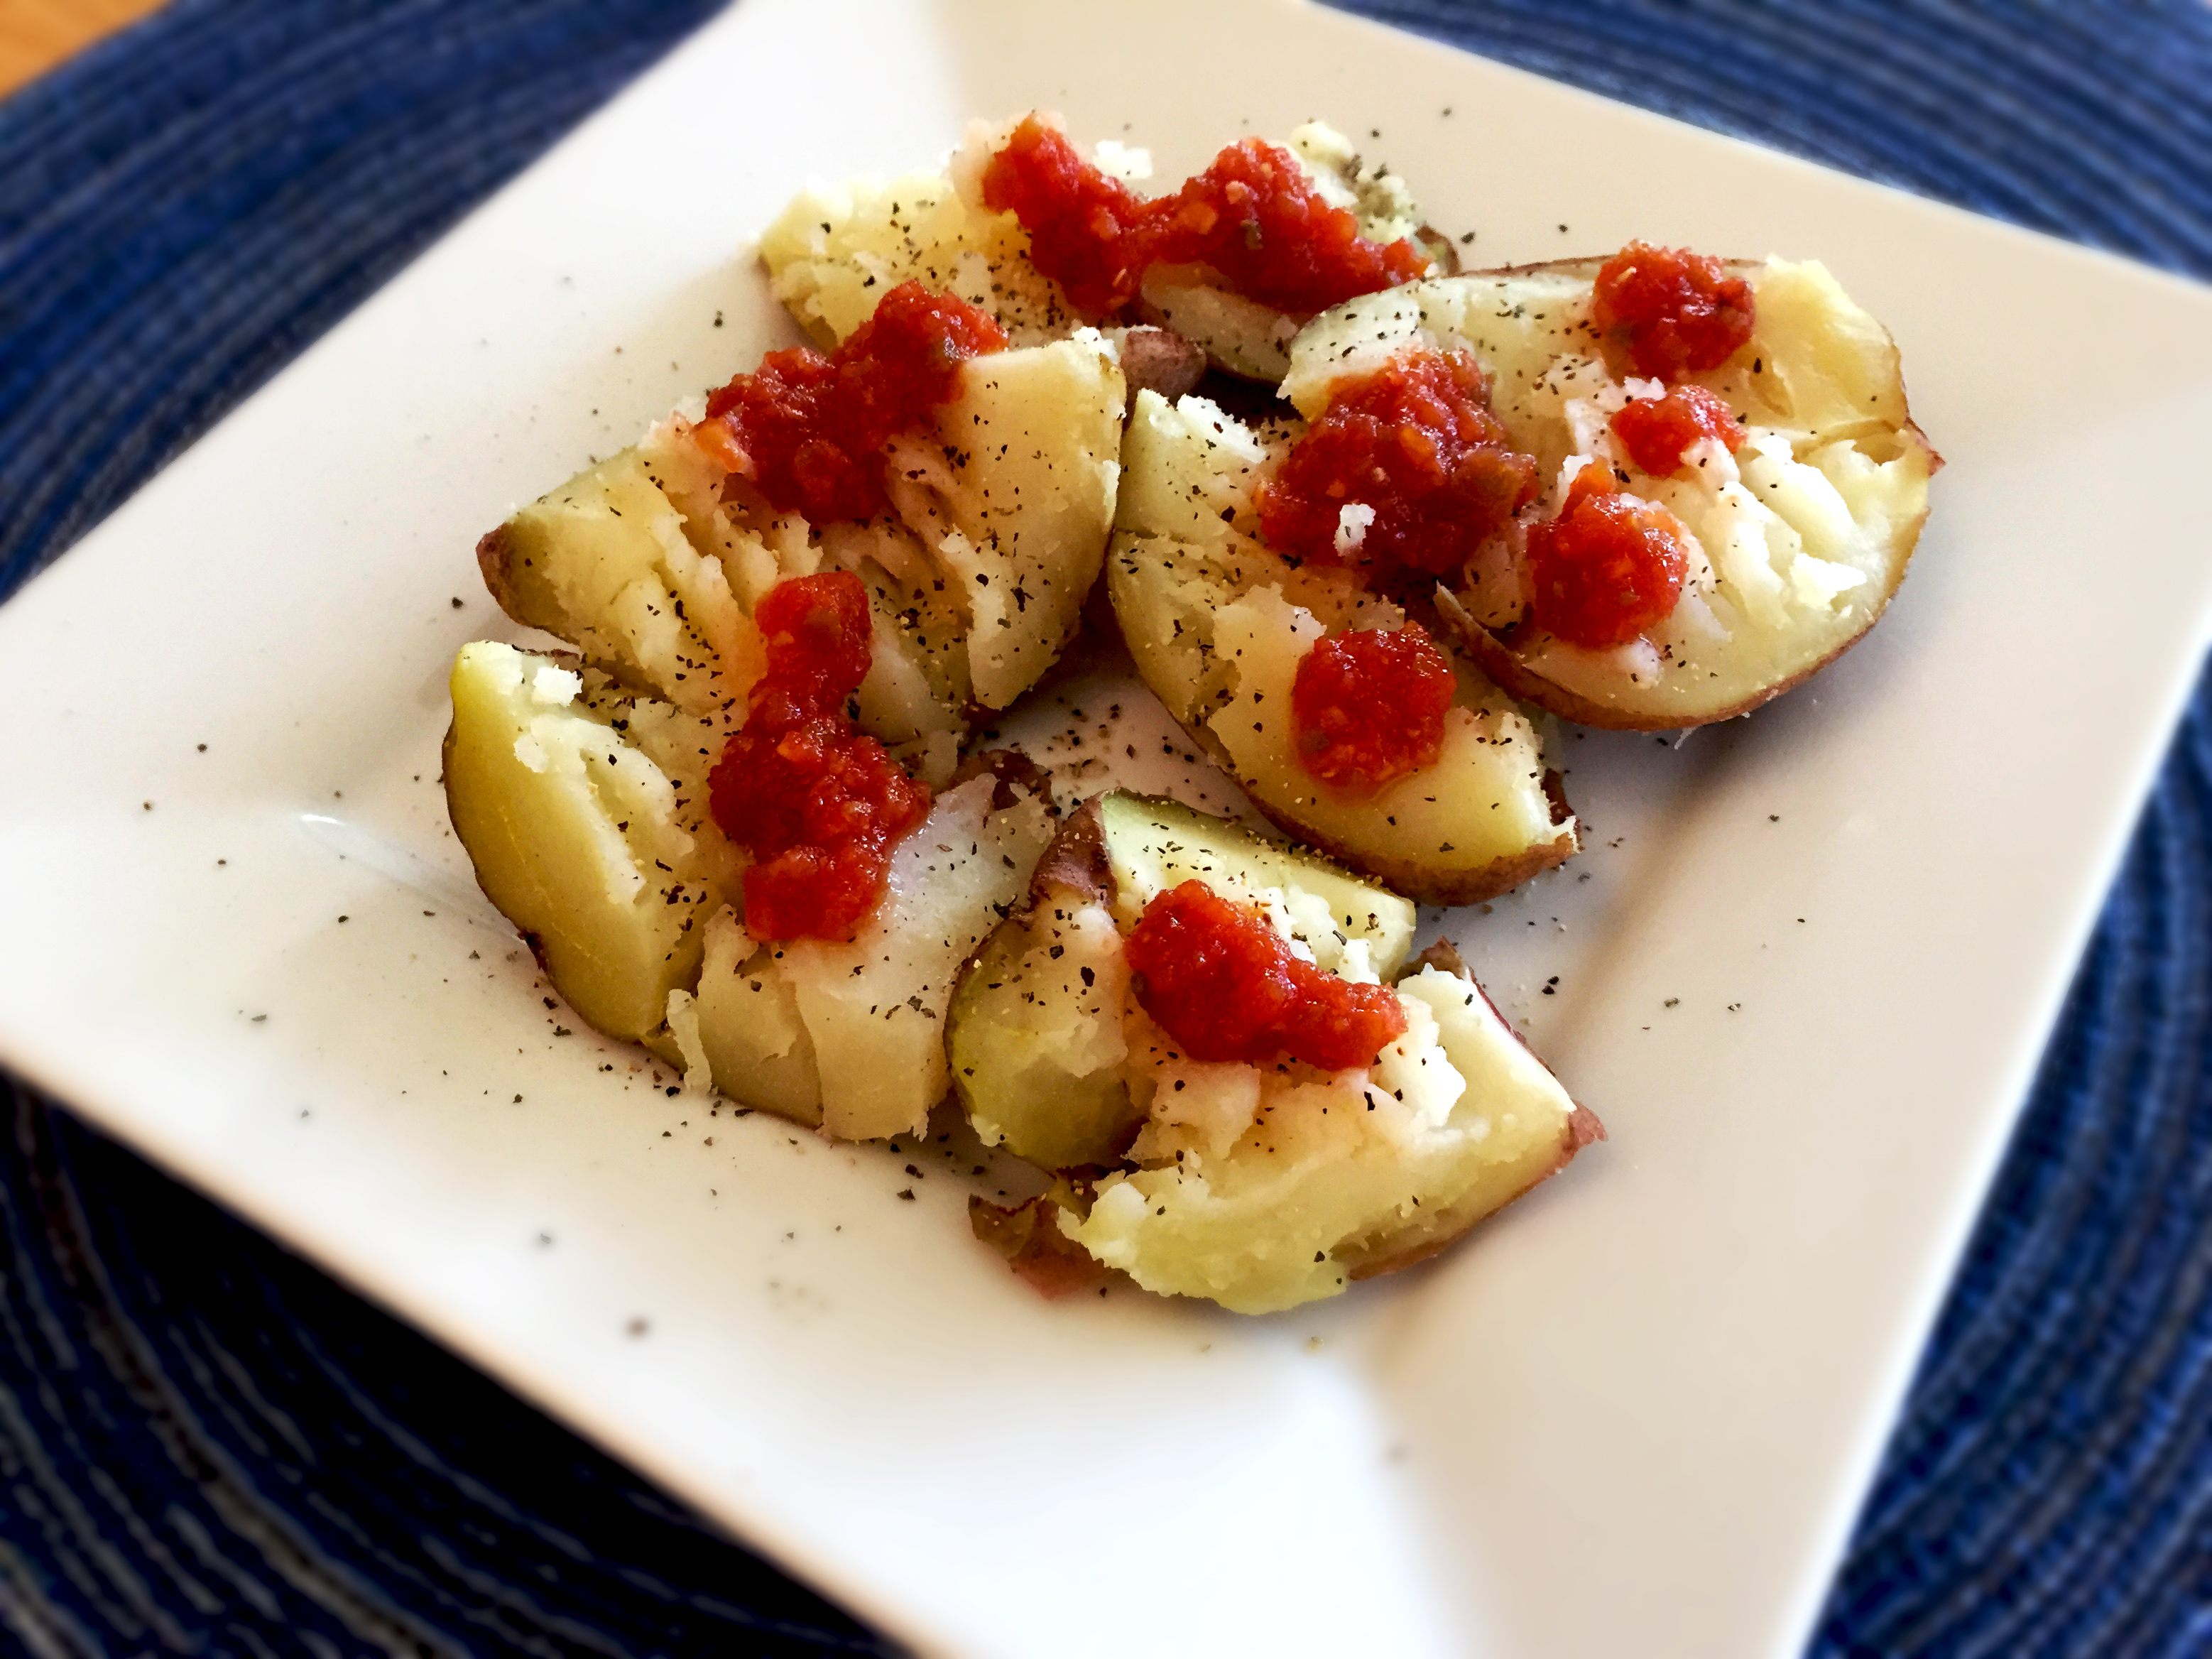boiled potatoes: (455, 160, 1822, 1201)
